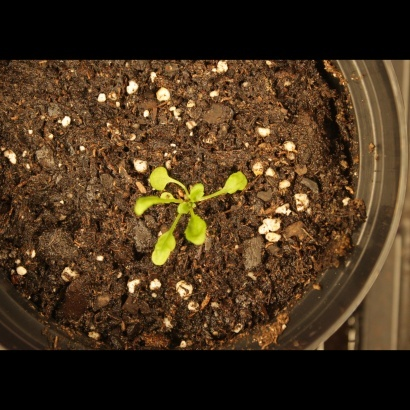leaf: (215, 166, 258, 197), (149, 228, 180, 270), (144, 161, 181, 195), (128, 193, 175, 219), (182, 215, 214, 250), (190, 178, 213, 201), (175, 196, 198, 219)
